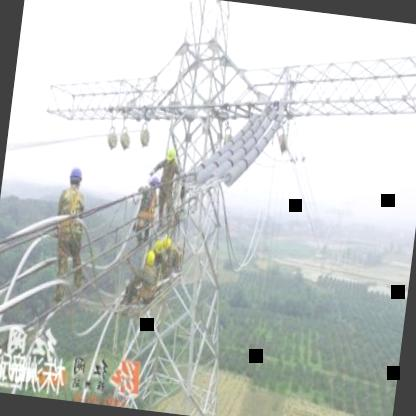helmet: (66, 161, 86, 191), (140, 246, 158, 268), (162, 145, 178, 166), (161, 231, 173, 253), (152, 236, 164, 256)
